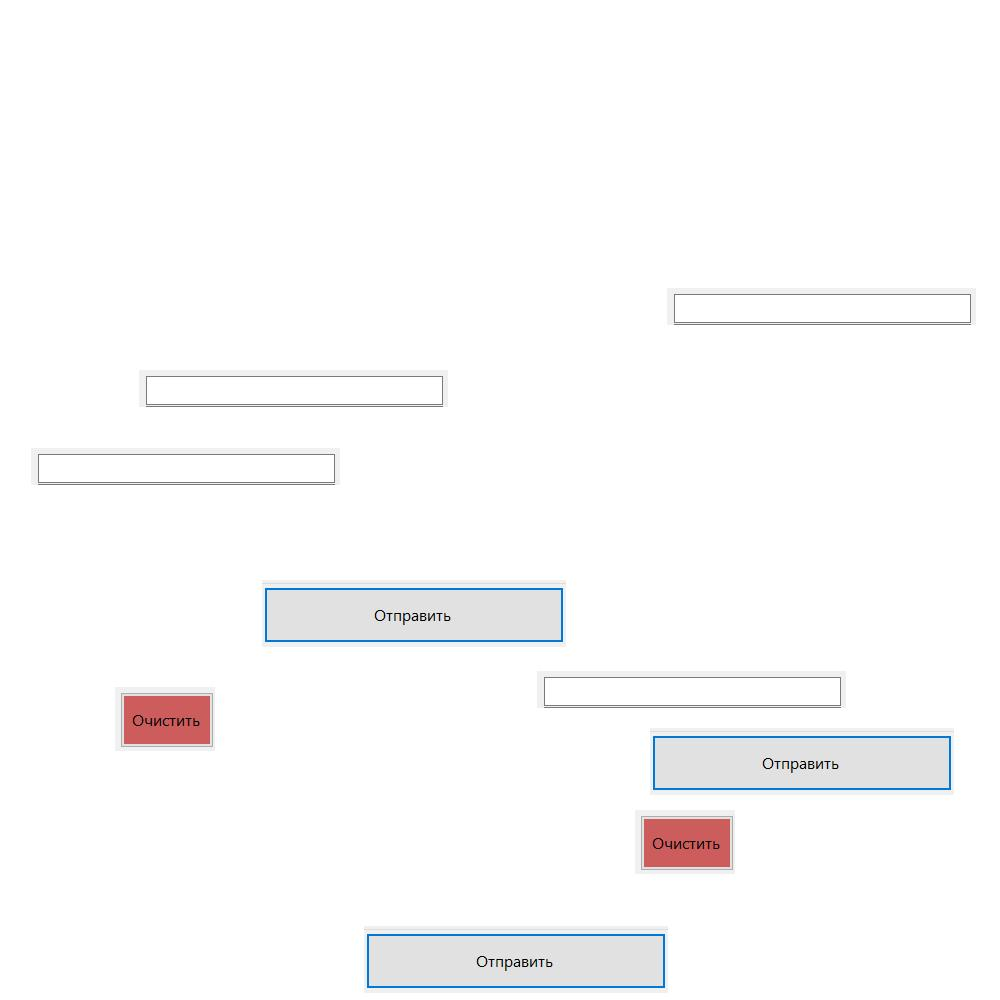Button: (364, 926, 668, 993), (262, 580, 566, 647), (650, 728, 954, 795), (635, 810, 735, 874), (115, 687, 215, 751)
EditText-: (667, 288, 976, 325), (139, 370, 448, 407), (31, 448, 340, 485), (537, 671, 846, 708)
